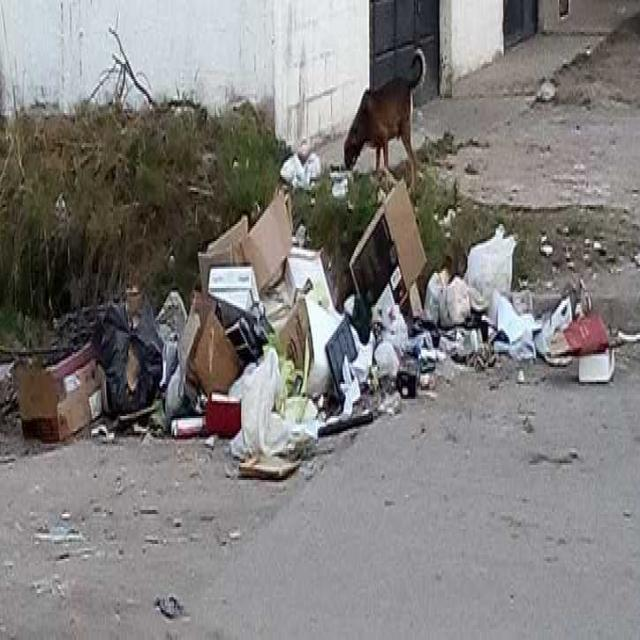garbage: (14, 164, 640, 478)
